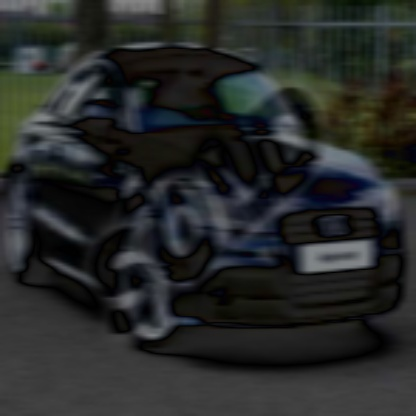Vehicle: (6, 40, 406, 354)
